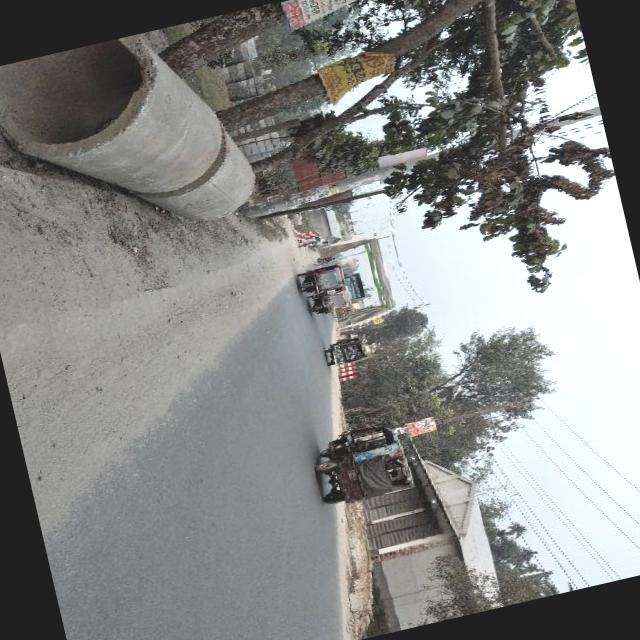motorcycle: (308, 422, 417, 512), (293, 262, 345, 296), (303, 286, 353, 318), (321, 336, 367, 368), (333, 306, 356, 319)
truck: (345, 270, 369, 302)
